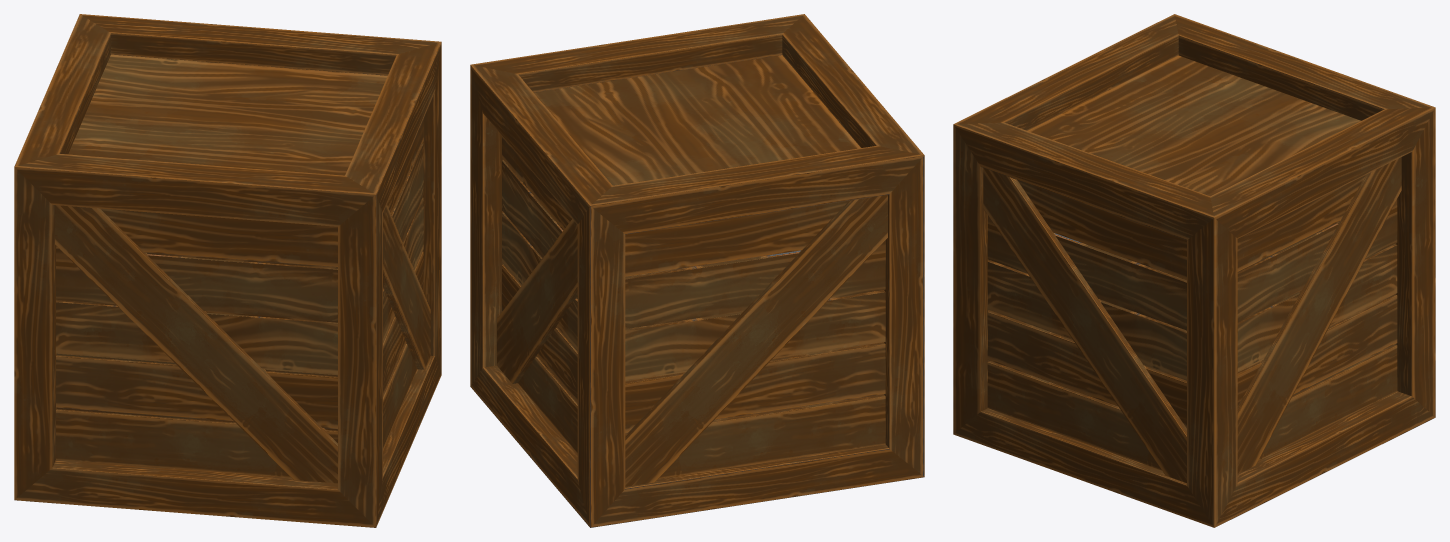
The picture shows the model from 3 angles, left to right: view 1: azimuth 30°, elevation 25°; view 2: azimuth 150°, elevation 25°; view 3: azimuth 270°, elevation 25°; orthographic projection. The views are drawn at different scales.
Visible parts, largest first — view 1: Cube.1837; view 2: Cube.1837; view 3: Cube.1837.
Boxes of the visible parts, x1,y1,x2,y2 form: Cube.1837: [14, 14, 441, 527]; Cube.1837: [470, 14, 924, 527]; Cube.1837: [953, 14, 1435, 527].
Size of the model in its own units: 187 by 133 by 187.
Materials: 1 (1 with a texture image).
